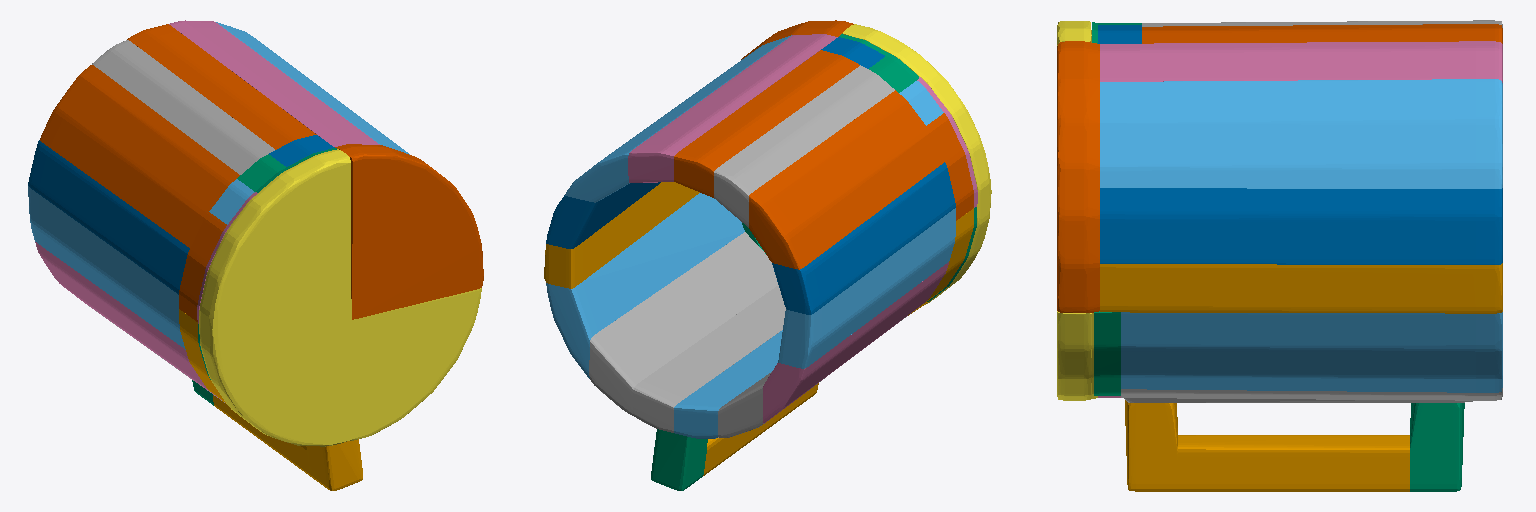
robot.urdf — root:
<robot name="root">
  <link name="link_convex_piece_028.obj">
    <inertial>
      <origin xyz="0 0 0" rpy="0 0 0"/>
    </inertial>
    <visual>
      <origin xyz="0 0 0" rpy="0 0 0"/>
      <geometry>
        <mesh filename="meshes/convex_piece_028.obj" scale="1.0 1.0 1.0"/>
      </geometry>
    </visual>
    <collision>
      <origin xyz="0 0 0" rpy="0 0 0"/>
      <geometry>
        <mesh filename="meshes/convex_piece_028.obj" scale="1.0 1.0 1.0"/>
      </geometry>
    </collision>
  </link>
  <link name="link_convex_piece_018.obj">
    <inertial>
      <origin xyz="0 0 0" rpy="0 0 0"/>
    </inertial>
    <visual>
      <origin xyz="0 0 0" rpy="0 0 0"/>
      <geometry>
        <mesh filename="meshes/convex_piece_018.obj" scale="1.0 1.0 1.0"/>
      </geometry>
    </visual>
    <collision>
      <origin xyz="0 0 0" rpy="0 0 0"/>
      <geometry>
        <mesh filename="meshes/convex_piece_018.obj" scale="1.0 1.0 1.0"/>
      </geometry>
    </collision>
  </link>
  <joint name="link_convex_piece_018.obj_joint" type="fixed">
    <origin xyz="0 0 0" rpy="0 0 0"/>
    <parent link="link_convex_piece_028.obj"/>
    <child link="link_convex_piece_018.obj"/>
  </joint>
  <link name="link_convex_piece_026.obj">
    <inertial>
      <origin xyz="0 0 0" rpy="0 0 0"/>
    </inertial>
    <visual>
      <origin xyz="0 0 0" rpy="0 0 0"/>
      <geometry>
        <mesh filename="meshes/convex_piece_026.obj" scale="1.0 1.0 1.0"/>
      </geometry>
    </visual>
    <collision>
      <origin xyz="0 0 0" rpy="0 0 0"/>
      <geometry>
        <mesh filename="meshes/convex_piece_026.obj" scale="1.0 1.0 1.0"/>
      </geometry>
    </collision>
  </link>
  <joint name="link_convex_piece_026.obj_joint" type="fixed">
    <origin xyz="0 0 0" rpy="0 0 0"/>
    <parent link="link_convex_piece_018.obj"/>
    <child link="link_convex_piece_026.obj"/>
  </joint>
  <link name="link_convex_piece_021.obj">
    <inertial>
      <origin xyz="0 0 0" rpy="0 0 0"/>
    </inertial>
    <visual>
      <origin xyz="0 0 0" rpy="0 0 0"/>
      <geometry>
        <mesh filename="meshes/convex_piece_021.obj" scale="1.0 1.0 1.0"/>
      </geometry>
    </visual>
    <collision>
      <origin xyz="0 0 0" rpy="0 0 0"/>
      <geometry>
        <mesh filename="meshes/convex_piece_021.obj" scale="1.0 1.0 1.0"/>
      </geometry>
    </collision>
  </link>
  <joint name="link_convex_piece_021.obj_joint" type="fixed">
    <origin xyz="0 0 0" rpy="0 0 0"/>
    <parent link="link_convex_piece_026.obj"/>
    <child link="link_convex_piece_021.obj"/>
  </joint>
  <link name="link_convex_piece_030.obj">
    <inertial>
      <origin xyz="0 0 0" rpy="0 0 0"/>
    </inertial>
    <visual>
      <origin xyz="0 0 0" rpy="0 0 0"/>
      <geometry>
        <mesh filename="meshes/convex_piece_030.obj" scale="1.0 1.0 1.0"/>
      </geometry>
    </visual>
    <collision>
      <origin xyz="0 0 0" rpy="0 0 0"/>
      <geometry>
        <mesh filename="meshes/convex_piece_030.obj" scale="1.0 1.0 1.0"/>
      </geometry>
    </collision>
  </link>
  <joint name="link_convex_piece_030.obj_joint" type="fixed">
    <origin xyz="0 0 0" rpy="0 0 0"/>
    <parent link="link_convex_piece_021.obj"/>
    <child link="link_convex_piece_030.obj"/>
  </joint>
  <link name="link_convex_piece_012.obj">
    <inertial>
      <origin xyz="0 0 0" rpy="0 0 0"/>
    </inertial>
    <visual>
      <origin xyz="0 0 0" rpy="0 0 0"/>
      <geometry>
        <mesh filename="meshes/convex_piece_012.obj" scale="1.0 1.0 1.0"/>
      </geometry>
    </visual>
    <collision>
      <origin xyz="0 0 0" rpy="0 0 0"/>
      <geometry>
        <mesh filename="meshes/convex_piece_012.obj" scale="1.0 1.0 1.0"/>
      </geometry>
    </collision>
  </link>
  <joint name="link_convex_piece_012.obj_joint" type="fixed">
    <origin xyz="0 0 0" rpy="0 0 0"/>
    <parent link="link_convex_piece_030.obj"/>
    <child link="link_convex_piece_012.obj"/>
  </joint>
  <link name="link_convex_piece_019.obj">
    <inertial>
      <origin xyz="0 0 0" rpy="0 0 0"/>
    </inertial>
    <visual>
      <origin xyz="0 0 0" rpy="0 0 0"/>
      <geometry>
        <mesh filename="meshes/convex_piece_019.obj" scale="1.0 1.0 1.0"/>
      </geometry>
    </visual>
    <collision>
      <origin xyz="0 0 0" rpy="0 0 0"/>
      <geometry>
        <mesh filename="meshes/convex_piece_019.obj" scale="1.0 1.0 1.0"/>
      </geometry>
    </collision>
  </link>
  <joint name="link_convex_piece_019.obj_joint" type="fixed">
    <origin xyz="0 0 0" rpy="0 0 0"/>
    <parent link="link_convex_piece_012.obj"/>
    <child link="link_convex_piece_019.obj"/>
  </joint>
  <link name="link_convex_piece_014.obj">
    <inertial>
      <origin xyz="0 0 0" rpy="0 0 0"/>
    </inertial>
    <visual>
      <origin xyz="0 0 0" rpy="0 0 0"/>
      <geometry>
        <mesh filename="meshes/convex_piece_014.obj" scale="1.0 1.0 1.0"/>
      </geometry>
    </visual>
    <collision>
      <origin xyz="0 0 0" rpy="0 0 0"/>
      <geometry>
        <mesh filename="meshes/convex_piece_014.obj" scale="1.0 1.0 1.0"/>
      </geometry>
    </collision>
  </link>
  <joint name="link_convex_piece_014.obj_joint" type="fixed">
    <origin xyz="0 0 0" rpy="0 0 0"/>
    <parent link="link_convex_piece_019.obj"/>
    <child link="link_convex_piece_014.obj"/>
  </joint>
  <link name="link_convex_piece_020.obj">
    <inertial>
      <origin xyz="0 0 0" rpy="0 0 0"/>
    </inertial>
    <visual>
      <origin xyz="0 0 0" rpy="0 0 0"/>
      <geometry>
        <mesh filename="meshes/convex_piece_020.obj" scale="1.0 1.0 1.0"/>
      </geometry>
    </visual>
    <collision>
      <origin xyz="0 0 0" rpy="0 0 0"/>
      <geometry>
        <mesh filename="meshes/convex_piece_020.obj" scale="1.0 1.0 1.0"/>
      </geometry>
    </collision>
  </link>
  <joint name="link_convex_piece_020.obj_joint" type="fixed">
    <origin xyz="0 0 0" rpy="0 0 0"/>
    <parent link="link_convex_piece_014.obj"/>
    <child link="link_convex_piece_020.obj"/>
  </joint>
  <link name="link_convex_piece_004.obj">
    <inertial>
      <origin xyz="0 0 0" rpy="0 0 0"/>
    </inertial>
    <visual>
      <origin xyz="0 0 0" rpy="0 0 0"/>
      <geometry>
        <mesh filename="meshes/convex_piece_004.obj" scale="1.0 1.0 1.0"/>
      </geometry>
    </visual>
    <collision>
      <origin xyz="0 0 0" rpy="0 0 0"/>
      <geometry>
        <mesh filename="meshes/convex_piece_004.obj" scale="1.0 1.0 1.0"/>
      </geometry>
    </collision>
  </link>
  <joint name="link_convex_piece_004.obj_joint" type="fixed">
    <origin xyz="0 0 0" rpy="0 0 0"/>
    <parent link="link_convex_piece_020.obj"/>
    <child link="link_convex_piece_004.obj"/>
  </joint>
  <link name="link_convex_piece_027.obj">
    <inertial>
      <origin xyz="0 0 0" rpy="0 0 0"/>
    </inertial>
    <visual>
      <origin xyz="0 0 0" rpy="0 0 0"/>
      <geometry>
        <mesh filename="meshes/convex_piece_027.obj" scale="1.0 1.0 1.0"/>
      </geometry>
    </visual>
    <collision>
      <origin xyz="0 0 0" rpy="0 0 0"/>
      <geometry>
        <mesh filename="meshes/convex_piece_027.obj" scale="1.0 1.0 1.0"/>
      </geometry>
    </collision>
  </link>
  <joint name="link_convex_piece_027.obj_joint" type="fixed">
    <origin xyz="0 0 0" rpy="0 0 0"/>
    <parent link="link_convex_piece_004.obj"/>
    <child link="link_convex_piece_027.obj"/>
  </joint>
  <link name="link_convex_piece_001.obj">
    <inertial>
      <origin xyz="0 0 0" rpy="0 0 0"/>
    </inertial>
    <visual>
      <origin xyz="0 0 0" rpy="0 0 0"/>
      <geometry>
        <mesh filename="meshes/convex_piece_001.obj" scale="1.0 1.0 1.0"/>
      </geometry>
    </visual>
    <collision>
      <origin xyz="0 0 0" rpy="0 0 0"/>
      <geometry>
        <mesh filename="meshes/convex_piece_001.obj" scale="1.0 1.0 1.0"/>
      </geometry>
    </collision>
  </link>
  <joint name="link_convex_piece_001.obj_joint" type="fixed">
    <origin xyz="0 0 0" rpy="0 0 0"/>
    <parent link="link_convex_piece_027.obj"/>
    <child link="link_convex_piece_001.obj"/>
  </joint>
  <link name="link_convex_piece_015.obj">
    <inertial>
      <origin xyz="0 0 0" rpy="0 0 0"/>
    </inertial>
    <visual>
      <origin xyz="0 0 0" rpy="0 0 0"/>
      <geometry>
        <mesh filename="meshes/convex_piece_015.obj" scale="1.0 1.0 1.0"/>
      </geometry>
    </visual>
    <collision>
      <origin xyz="0 0 0" rpy="0 0 0"/>
      <geometry>
        <mesh filename="meshes/convex_piece_015.obj" scale="1.0 1.0 1.0"/>
      </geometry>
    </collision>
  </link>
  <joint name="link_convex_piece_015.obj_joint" type="fixed">
    <origin xyz="0 0 0" rpy="0 0 0"/>
    <parent link="link_convex_piece_001.obj"/>
    <child link="link_convex_piece_015.obj"/>
  </joint>
  <link name="link_convex_piece_005.obj">
    <inertial>
      <origin xyz="0 0 0" rpy="0 0 0"/>
    </inertial>
    <visual>
      <origin xyz="0 0 0" rpy="0 0 0"/>
      <geometry>
        <mesh filename="meshes/convex_piece_005.obj" scale="1.0 1.0 1.0"/>
      </geometry>
    </visual>
    <collision>
      <origin xyz="0 0 0" rpy="0 0 0"/>
      <geometry>
        <mesh filename="meshes/convex_piece_005.obj" scale="1.0 1.0 1.0"/>
      </geometry>
    </collision>
  </link>
  <joint name="link_convex_piece_005.obj_joint" type="fixed">
    <origin xyz="0 0 0" rpy="0 0 0"/>
    <parent link="link_convex_piece_015.obj"/>
    <child link="link_convex_piece_005.obj"/>
  </joint>
  <link name="link_convex_piece_024.obj">
    <inertial>
      <origin xyz="0 0 0" rpy="0 0 0"/>
    </inertial>
    <visual>
      <origin xyz="0 0 0" rpy="0 0 0"/>
      <geometry>
        <mesh filename="meshes/convex_piece_024.obj" scale="1.0 1.0 1.0"/>
      </geometry>
    </visual>
    <collision>
      <origin xyz="0 0 0" rpy="0 0 0"/>
      <geometry>
        <mesh filename="meshes/convex_piece_024.obj" scale="1.0 1.0 1.0"/>
      </geometry>
    </collision>
  </link>
  <joint name="link_convex_piece_024.obj_joint" type="fixed">
    <origin xyz="0 0 0" rpy="0 0 0"/>
    <parent link="link_convex_piece_005.obj"/>
    <child link="link_convex_piece_024.obj"/>
  </joint>
  <link name="link_convex_piece_013.obj">
    <inertial>
      <origin xyz="0 0 0" rpy="0 0 0"/>
    </inertial>
    <visual>
      <origin xyz="0 0 0" rpy="0 0 0"/>
      <geometry>
        <mesh filename="meshes/convex_piece_013.obj" scale="1.0 1.0 1.0"/>
      </geometry>
    </visual>
    <collision>
      <origin xyz="0 0 0" rpy="0 0 0"/>
      <geometry>
        <mesh filename="meshes/convex_piece_013.obj" scale="1.0 1.0 1.0"/>
      </geometry>
    </collision>
  </link>
  <joint name="link_convex_piece_013.obj_joint" type="fixed">
    <origin xyz="0 0 0" rpy="0 0 0"/>
    <parent link="link_convex_piece_024.obj"/>
    <child link="link_convex_piece_013.obj"/>
  </joint>
  <link name="link_convex_piece_029.obj">
    <inertial>
      <origin xyz="0 0 0" rpy="0 0 0"/>
    </inertial>
    <visual>
      <origin xyz="0 0 0" rpy="0 0 0"/>
      <geometry>
        <mesh filename="meshes/convex_piece_029.obj" scale="1.0 1.0 1.0"/>
      </geometry>
    </visual>
    <collision>
      <origin xyz="0 0 0" rpy="0 0 0"/>
      <geometry>
        <mesh filename="meshes/convex_piece_029.obj" scale="1.0 1.0 1.0"/>
      </geometry>
    </collision>
  </link>
  <joint name="link_convex_piece_029.obj_joint" type="fixed">
    <origin xyz="0 0 0" rpy="0 0 0"/>
    <parent link="link_convex_piece_013.obj"/>
    <child link="link_convex_piece_029.obj"/>
  </joint>
  <link name="link_convex_piece_032.obj">
    <inertial>
      <origin xyz="0 0 0" rpy="0 0 0"/>
    </inertial>
    <visual>
      <origin xyz="0 0 0" rpy="0 0 0"/>
      <geometry>
        <mesh filename="meshes/convex_piece_032.obj" scale="1.0 1.0 1.0"/>
      </geometry>
    </visual>
    <collision>
      <origin xyz="0 0 0" rpy="0 0 0"/>
      <geometry>
        <mesh filename="meshes/convex_piece_032.obj" scale="1.0 1.0 1.0"/>
      </geometry>
    </collision>
  </link>
  <joint name="link_convex_piece_032.obj_joint" type="fixed">
    <origin xyz="0 0 0" rpy="0 0 0"/>
    <parent link="link_convex_piece_029.obj"/>
    <child link="link_convex_piece_032.obj"/>
  </joint>
  <link name="link_convex_piece_034.obj">
    <inertial>
      <origin xyz="0 0 0" rpy="0 0 0"/>
    </inertial>
    <visual>
      <origin xyz="0 0 0" rpy="0 0 0"/>
      <geometry>
        <mesh filename="meshes/convex_piece_034.obj" scale="1.0 1.0 1.0"/>
      </geometry>
    </visual>
    <collision>
      <origin xyz="0 0 0" rpy="0 0 0"/>
      <geometry>
        <mesh filename="meshes/convex_piece_034.obj" scale="1.0 1.0 1.0"/>
      </geometry>
    </collision>
  </link>
  <joint name="link_convex_piece_034.obj_joint" type="fixed">
    <origin xyz="0 0 0" rpy="0 0 0"/>
    <parent link="link_convex_piece_032.obj"/>
    <child link="link_convex_piece_034.obj"/>
  </joint>
  <link name="link_convex_piece_002.obj">
    <inertial>
      <origin xyz="0 0 0" rpy="0 0 0"/>
    </inertial>
    <visual>
      <origin xyz="0 0 0" rpy="0 0 0"/>
      <geometry>
        <mesh filename="meshes/convex_piece_002.obj" scale="1.0 1.0 1.0"/>
      </geometry>
    </visual>
    <collision>
      <origin xyz="0 0 0" rpy="0 0 0"/>
      <geometry>
        <mesh filename="meshes/convex_piece_002.obj" scale="1.0 1.0 1.0"/>
      </geometry>
    </collision>
  </link>
  <joint name="link_convex_piece_002.obj_joint" type="fixed">
    <origin xyz="0 0 0" rpy="0 0 0"/>
    <parent link="link_convex_piece_034.obj"/>
    <child link="link_convex_piece_002.obj"/>
  </joint>
  <link name="link_convex_piece_025.obj">
    <inertial>
      <origin xyz="0 0 0" rpy="0 0 0"/>
    </inertial>
    <visual>
      <origin xyz="0 0 0" rpy="0 0 0"/>
      <geometry>
        <mesh filename="meshes/convex_piece_025.obj" scale="1.0 1.0 1.0"/>
      </geometry>
    </visual>
    <collision>
      <origin xyz="0 0 0" rpy="0 0 0"/>
      <geometry>
        <mesh filename="meshes/convex_piece_025.obj" scale="1.0 1.0 1.0"/>
      </geometry>
    </collision>
  </link>
  <joint name="link_convex_piece_025.obj_joint" type="fixed">
    <origin xyz="0 0 0" rpy="0 0 0"/>
    <parent link="link_convex_piece_002.obj"/>
    <child link="link_convex_piece_025.obj"/>
  </joint>
  <link name="link_convex_piece_033.obj">
    <inertial>
      <origin xyz="0 0 0" rpy="0 0 0"/>
    </inertial>
    <visual>
      <origin xyz="0 0 0" rpy="0 0 0"/>
      <geometry>
        <mesh filename="meshes/convex_piece_033.obj" scale="1.0 1.0 1.0"/>
      </geometry>
    </visual>
    <collision>
      <origin xyz="0 0 0" rpy="0 0 0"/>
      <geometry>
        <mesh filename="meshes/convex_piece_033.obj" scale="1.0 1.0 1.0"/>
      </geometry>
    </collision>
  </link>
  <joint name="link_convex_piece_033.obj_joint" type="fixed">
    <origin xyz="0 0 0" rpy="0 0 0"/>
    <parent link="link_convex_piece_025.obj"/>
    <child link="link_convex_piece_033.obj"/>
  </joint>
  <link name="link_convex_piece_010.obj">
    <inertial>
      <origin xyz="0 0 0" rpy="0 0 0"/>
    </inertial>
    <visual>
      <origin xyz="0 0 0" rpy="0 0 0"/>
      <geometry>
        <mesh filename="meshes/convex_piece_010.obj" scale="1.0 1.0 1.0"/>
      </geometry>
    </visual>
    <collision>
      <origin xyz="0 0 0" rpy="0 0 0"/>
      <geometry>
        <mesh filename="meshes/convex_piece_010.obj" scale="1.0 1.0 1.0"/>
      </geometry>
    </collision>
  </link>
  <joint name="link_convex_piece_010.obj_joint" type="fixed">
    <origin xyz="0 0 0" rpy="0 0 0"/>
    <parent link="link_convex_piece_033.obj"/>
    <child link="link_convex_piece_010.obj"/>
  </joint>
  <link name="link_convex_piece_006.obj">
    <inertial>
      <origin xyz="0 0 0" rpy="0 0 0"/>
    </inertial>
    <visual>
      <origin xyz="0 0 0" rpy="0 0 0"/>
      <geometry>
        <mesh filename="meshes/convex_piece_006.obj" scale="1.0 1.0 1.0"/>
      </geometry>
    </visual>
    <collision>
      <origin xyz="0 0 0" rpy="0 0 0"/>
      <geometry>
        <mesh filename="meshes/convex_piece_006.obj" scale="1.0 1.0 1.0"/>
      </geometry>
    </collision>
  </link>
  <joint name="link_convex_piece_006.obj_joint" type="fixed">
    <origin xyz="0 0 0" rpy="0 0 0"/>
    <parent link="link_convex_piece_010.obj"/>
    <child link="link_convex_piece_006.obj"/>
  </joint>
  <link name="link_convex_piece_003.obj">
    <inertial>
      <origin xyz="0 0 0" rpy="0 0 0"/>
    </inertial>
    <visual>
      <origin xyz="0 0 0" rpy="0 0 0"/>
      <geometry>
        <mesh filename="meshes/convex_piece_003.obj" scale="1.0 1.0 1.0"/>
      </geometry>
    </visual>
    <collision>
      <origin xyz="0 0 0" rpy="0 0 0"/>
      <geometry>
        <mesh filename="meshes/convex_piece_003.obj" scale="1.0 1.0 1.0"/>
      </geometry>
    </collision>
  </link>
  <joint name="link_convex_piece_003.obj_joint" type="fixed">
    <origin xyz="0 0 0" rpy="0 0 0"/>
    <parent link="link_convex_piece_006.obj"/>
    <child link="link_convex_piece_003.obj"/>
  </joint>
  <link name="link_convex_piece_008.obj">
    <inertial>
      <origin xyz="0 0 0" rpy="0 0 0"/>
    </inertial>
    <visual>
      <origin xyz="0 0 0" rpy="0 0 0"/>
      <geometry>
        <mesh filename="meshes/convex_piece_008.obj" scale="1.0 1.0 1.0"/>
      </geometry>
    </visual>
    <collision>
      <origin xyz="0 0 0" rpy="0 0 0"/>
      <geometry>
        <mesh filename="meshes/convex_piece_008.obj" scale="1.0 1.0 1.0"/>
      </geometry>
    </collision>
  </link>
  <joint name="link_convex_piece_008.obj_joint" type="fixed">
    <origin xyz="0 0 0" rpy="0 0 0"/>
    <parent link="link_convex_piece_003.obj"/>
    <child link="link_convex_piece_008.obj"/>
  </joint>
  <link name="link_convex_piece_023.obj">
    <inertial>
      <origin xyz="0 0 0" rpy="0 0 0"/>
    </inertial>
    <visual>
      <origin xyz="0 0 0" rpy="0 0 0"/>
      <geometry>
        <mesh filename="meshes/convex_piece_023.obj" scale="1.0 1.0 1.0"/>
      </geometry>
    </visual>
    <collision>
      <origin xyz="0 0 0" rpy="0 0 0"/>
      <geometry>
        <mesh filename="meshes/convex_piece_023.obj" scale="1.0 1.0 1.0"/>
      </geometry>
    </collision>
  </link>
  <joint name="link_convex_piece_023.obj_joint" type="fixed">
    <origin xyz="0 0 0" rpy="0 0 0"/>
    <parent link="link_convex_piece_008.obj"/>
    <child link="link_convex_piece_023.obj"/>
  </joint>
  <link name="link_convex_piece_022.obj">
    <inertial>
      <origin xyz="0 0 0" rpy="0 0 0"/>
    </inertial>
    <visual>
      <origin xyz="0 0 0" rpy="0 0 0"/>
      <geometry>
        <mesh filename="meshes/convex_piece_022.obj" scale="1.0 1.0 1.0"/>
      </geometry>
    </visual>
    <collision>
      <origin xyz="0 0 0" rpy="0 0 0"/>
      <geometry>
        <mesh filename="meshes/convex_piece_022.obj" scale="1.0 1.0 1.0"/>
      </geometry>
    </collision>
  </link>
  <joint name="link_convex_piece_022.obj_joint" type="fixed">
    <origin xyz="0 0 0" rpy="0 0 0"/>
    <parent link="link_convex_piece_023.obj"/>
    <child link="link_convex_piece_022.obj"/>
  </joint>
  <link name="link_convex_piece_011.obj">
    <inertial>
      <origin xyz="0 0 0" rpy="0 0 0"/>
    </inertial>
    <visual>
      <origin xyz="0 0 0" rpy="0 0 0"/>
      <geometry>
        <mesh filename="meshes/convex_piece_011.obj" scale="1.0 1.0 1.0"/>
      </geometry>
    </visual>
    <collision>
      <origin xyz="0 0 0" rpy="0 0 0"/>
      <geometry>
        <mesh filename="meshes/convex_piece_011.obj" scale="1.0 1.0 1.0"/>
      </geometry>
    </collision>
  </link>
  <joint name="link_convex_piece_011.obj_joint" type="fixed">
    <origin xyz="0 0 0" rpy="0 0 0"/>
    <parent link="link_convex_piece_022.obj"/>
    <child link="link_convex_piece_011.obj"/>
  </joint>
  <link name="link_convex_piece_000.obj">
    <inertial>
      <origin xyz="0 0 0" rpy="0 0 0"/>
    </inertial>
    <visual>
      <origin xyz="0 0 0" rpy="0 0 0"/>
      <geometry>
        <mesh filename="meshes/convex_piece_000.obj" scale="1.0 1.0 1.0"/>
      </geometry>
    </visual>
    <collision>
      <origin xyz="0 0 0" rpy="0 0 0"/>
      <geometry>
        <mesh filename="meshes/convex_piece_000.obj" scale="1.0 1.0 1.0"/>
      </geometry>
    </collision>
  </link>
  <joint name="link_convex_piece_000.obj_joint" type="fixed">
    <origin xyz="0 0 0" rpy="0 0 0"/>
    <parent link="link_convex_piece_011.obj"/>
    <child link="link_convex_piece_000.obj"/>
  </joint>
  <link name="link_convex_piece_016.obj">
    <inertial>
      <origin xyz="0 0 0" rpy="0 0 0"/>
    </inertial>
    <visual>
      <origin xyz="0 0 0" rpy="0 0 0"/>
      <geometry>
        <mesh filename="meshes/convex_piece_016.obj" scale="1.0 1.0 1.0"/>
      </geometry>
    </visual>
    <collision>
      <origin xyz="0 0 0" rpy="0 0 0"/>
      <geometry>
        <mesh filename="meshes/convex_piece_016.obj" scale="1.0 1.0 1.0"/>
      </geometry>
    </collision>
  </link>
  <joint name="link_convex_piece_016.obj_joint" type="fixed">
    <origin xyz="0 0 0" rpy="0 0 0"/>
    <parent link="link_convex_piece_000.obj"/>
    <child link="link_convex_piece_016.obj"/>
  </joint>
  <link name="link_convex_piece_009.obj">
    <inertial>
      <origin xyz="0 0 0" rpy="0 0 0"/>
    </inertial>
    <visual>
      <origin xyz="0 0 0" rpy="0 0 0"/>
      <geometry>
        <mesh filename="meshes/convex_piece_009.obj" scale="1.0 1.0 1.0"/>
      </geometry>
    </visual>
    <collision>
      <origin xyz="0 0 0" rpy="0 0 0"/>
      <geometry>
        <mesh filename="meshes/convex_piece_009.obj" scale="1.0 1.0 1.0"/>
      </geometry>
    </collision>
  </link>
  <joint name="link_convex_piece_009.obj_joint" type="fixed">
    <origin xyz="0 0 0" rpy="0 0 0"/>
    <parent link="link_convex_piece_016.obj"/>
    <child link="link_convex_piece_009.obj"/>
  </joint>
  <link name="link_convex_piece_007.obj">
    <inertial>
      <origin xyz="0 0 0" rpy="0 0 0"/>
    </inertial>
    <visual>
      <origin xyz="0 0 0" rpy="0 0 0"/>
      <geometry>
        <mesh filename="meshes/convex_piece_007.obj" scale="1.0 1.0 1.0"/>
      </geometry>
    </visual>
    <collision>
      <origin xyz="0 0 0" rpy="0 0 0"/>
      <geometry>
        <mesh filename="meshes/convex_piece_007.obj" scale="1.0 1.0 1.0"/>
      </geometry>
    </collision>
  </link>
  <joint name="link_convex_piece_007.obj_joint" type="fixed">
    <origin xyz="0 0 0" rpy="0 0 0"/>
    <parent link="link_convex_piece_009.obj"/>
    <child link="link_convex_piece_007.obj"/>
  </joint>
  <link name="link_convex_piece_017.obj">
    <inertial>
      <origin xyz="0 0 0" rpy="0 0 0"/>
    </inertial>
    <visual>
      <origin xyz="0 0 0" rpy="0 0 0"/>
      <geometry>
        <mesh filename="meshes/convex_piece_017.obj" scale="1.0 1.0 1.0"/>
      </geometry>
    </visual>
    <collision>
      <origin xyz="0 0 0" rpy="0 0 0"/>
      <geometry>
        <mesh filename="meshes/convex_piece_017.obj" scale="1.0 1.0 1.0"/>
      </geometry>
    </collision>
  </link>
  <joint name="link_convex_piece_017.obj_joint" type="fixed">
    <origin xyz="0 0 0" rpy="0 0 0"/>
    <parent link="link_convex_piece_007.obj"/>
    <child link="link_convex_piece_017.obj"/>
  </joint>
  <link name="link_convex_piece_031.obj">
    <inertial>
      <origin xyz="0 0 0" rpy="0 0 0"/>
    </inertial>
    <visual>
      <origin xyz="0 0 0" rpy="0 0 0"/>
      <geometry>
        <mesh filename="meshes/convex_piece_031.obj" scale="1.0 1.0 1.0"/>
      </geometry>
    </visual>
    <collision>
      <origin xyz="0 0 0" rpy="0 0 0"/>
      <geometry>
        <mesh filename="meshes/convex_piece_031.obj" scale="1.0 1.0 1.0"/>
      </geometry>
    </collision>
  </link>
  <joint name="link_convex_piece_031.obj_joint" type="fixed">
    <origin xyz="0 0 0" rpy="0 0 0"/>
    <parent link="link_convex_piece_017.obj"/>
    <child link="link_convex_piece_031.obj"/>
  </joint>
</robot>

--- What the picture shows (computed from the rendered views, not written in the file) ---
3 views of the same robot in one strip: view 1: azimuth 30°, elevation 25°; view 2: azimuth 150°, elevation 25°; view 3: azimuth 270°, elevation 25° (orthographic).
Model root with 35 links and 34 joints (34 fixed), rooted at link_convex_piece_028.obj, posed every joint at zero.
Links seen in each view (by area): view 1: link_convex_piece_001.obj, link_convex_piece_000.obj, link_convex_piece_012.obj, link_convex_piece_002.obj, link_convex_piece_015.obj, link_convex_piece_013.obj, link_convex_piece_008.obj, link_convex_piece_005.obj, link_convex_piece_016.obj, link_convex_piece_010.obj, link_convex_piece_028.obj, link_convex_piece_033.obj (+6 smaller); view 2: link_convex_piece_012.obj, link_convex_piece_014.obj, link_convex_piece_018.obj, link_convex_piece_015.obj, link_convex_piece_008.obj, link_convex_piece_013.obj, link_convex_piece_005.obj, link_convex_piece_006.obj, link_convex_piece_016.obj, link_convex_piece_007.obj, link_convex_piece_010.obj, link_convex_piece_001.obj (+13 smaller); view 3: link_convex_piece_017.obj, link_convex_piece_011.obj, link_convex_piece_018.obj, link_convex_piece_007.obj, link_convex_piece_016.obj, link_convex_piece_003.obj, link_convex_piece_000.obj, link_convex_piece_005.obj, link_convex_piece_034.obj, link_convex_piece_028.obj, link_convex_piece_014.obj, link_convex_piece_002.obj (+5 smaller).
Boxes of the visible links, bbox=[...] form: link_convex_piece_001.obj: bbox=[199, 149, 351, 446]; link_convex_piece_000.obj: bbox=[335, 144, 483, 319]; link_convex_piece_012.obj: bbox=[40, 65, 239, 247]; link_convex_piece_002.obj: bbox=[351, 288, 481, 440]; link_convex_piece_015.obj: bbox=[28, 140, 189, 294]; link_convex_piece_013.obj: bbox=[92, 40, 274, 174]; link_convex_piece_008.obj: bbox=[28, 186, 185, 349]; link_convex_piece_005.obj: bbox=[127, 24, 316, 149]; link_convex_piece_016.obj: bbox=[169, 20, 379, 146]; link_convex_piece_010.obj: bbox=[35, 242, 220, 399]; link_convex_piece_028.obj: bbox=[307, 439, 362, 490]; link_convex_piece_033.obj: bbox=[179, 212, 226, 321]; link_convex_piece_012.obj: bbox=[749, 90, 944, 269]; link_convex_piece_014.obj: bbox=[589, 232, 777, 415]; link_convex_piece_018.obj: bbox=[546, 193, 744, 378]; link_convex_piece_015.obj: bbox=[772, 162, 955, 314]; link_convex_piece_008.obj: bbox=[778, 208, 955, 368]; link_convex_piece_013.obj: bbox=[714, 65, 894, 227]; link_convex_piece_005.obj: bbox=[674, 50, 859, 197]; link_convex_piece_006.obj: bbox=[633, 285, 785, 432]; link_convex_piece_016.obj: bbox=[628, 34, 837, 182]; link_convex_piece_007.obj: bbox=[544, 182, 699, 288]; link_convex_piece_010.obj: bbox=[763, 262, 948, 423]; link_convex_piece_001.obj: bbox=[842, 24, 991, 304]; link_convex_piece_017.obj: bbox=[1100, 79, 1502, 188]; link_convex_piece_011.obj: bbox=[1100, 188, 1502, 264]; link_convex_piece_018.obj: bbox=[1121, 312, 1502, 392]; link_convex_piece_007.obj: bbox=[1100, 263, 1502, 313]; link_convex_piece_016.obj: bbox=[1100, 41, 1502, 82]; link_convex_piece_003.obj: bbox=[1178, 435, 1409, 491]; link_convex_piece_000.obj: bbox=[1057, 41, 1099, 312]; link_convex_piece_005.obj: bbox=[1142, 24, 1502, 43]; link_convex_piece_034.obj: bbox=[1410, 403, 1464, 491]; link_convex_piece_028.obj: bbox=[1125, 400, 1177, 491]; link_convex_piece_014.obj: bbox=[1121, 388, 1502, 400]; link_convex_piece_002.obj: bbox=[1057, 311, 1091, 400].
Size in the robot's own frame: 1.01 by 1.2 by 1.28 metres.
Meshes: 35 distinct files referenced, 35 mesh visuals loaded (35 OBJ).
